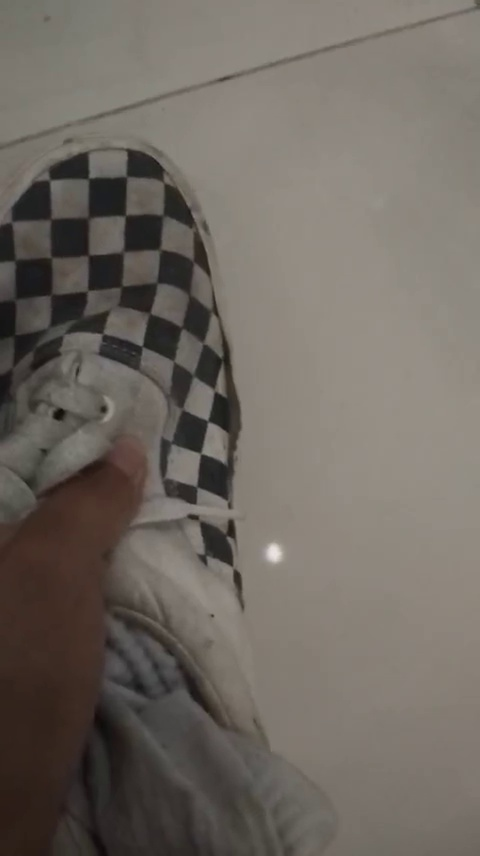bonding: (221, 335, 247, 471)
